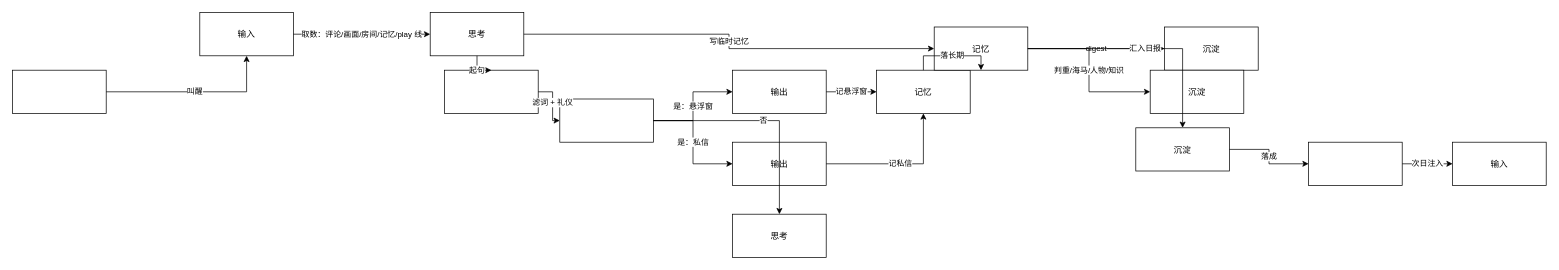
Some shapes in this 1559 by 270 pixel diagram are drawn without their labels. The shapes that lost their labels are listed below. From the top down, each one's centre as x and y in pixels, then its label:
(x=59, y=91): 节律
(x=491, y=91): 说话
(x=606, y=120): 校验
(x=1355, y=163): 日报
